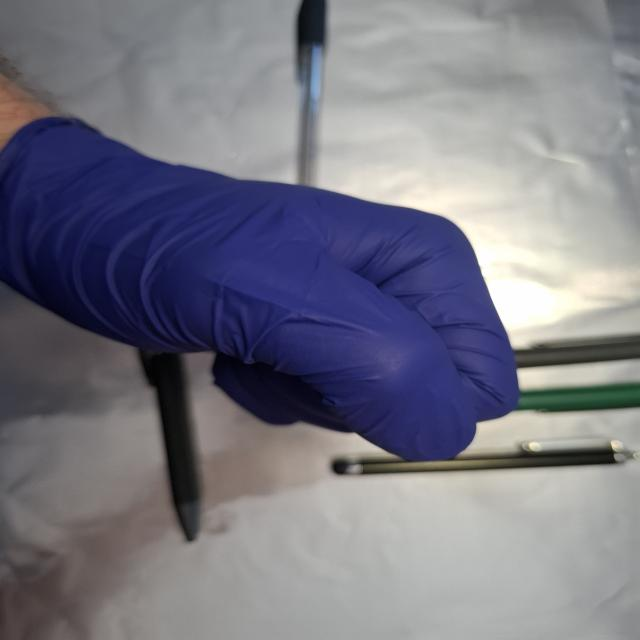glove_on: (2, 114, 526, 466)
